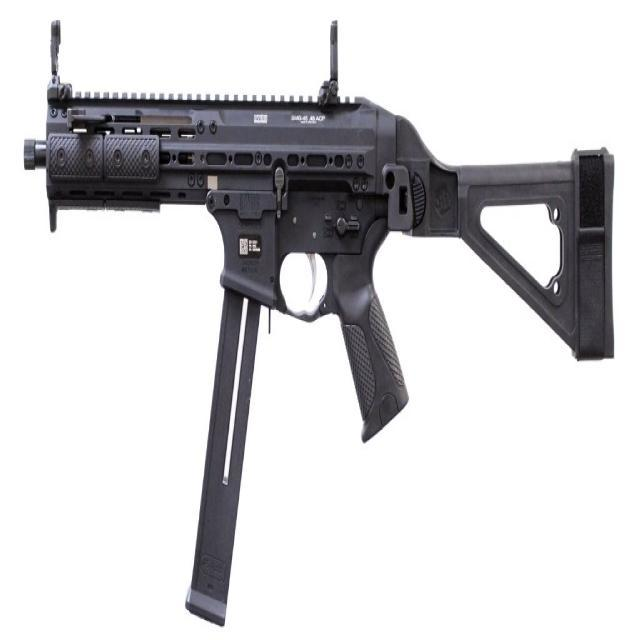smg: (21, 17, 618, 630)
